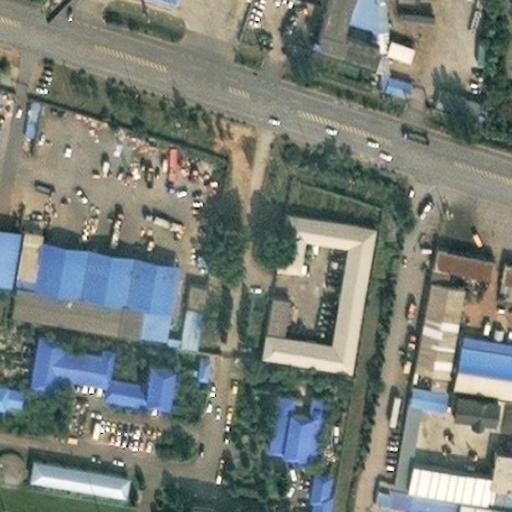building: (250, 202, 363, 361), (2, 227, 169, 329), (17, 324, 160, 395), (398, 271, 453, 397), (385, 449, 480, 494), (442, 331, 512, 391), (17, 449, 116, 487), (257, 382, 312, 449), (304, 0, 368, 56), (156, 269, 195, 334), (475, 434, 512, 500), (369, 477, 447, 506), (420, 238, 482, 274), (440, 380, 488, 414), (443, 489, 512, 512), (427, 77, 469, 107), (298, 460, 322, 512), (338, 0, 382, 23), (389, 5, 432, 27), (0, 382, 25, 414), (150, 503, 238, 512), (391, 391, 409, 432), (13, 87, 30, 128), (489, 252, 512, 276), (378, 29, 403, 51), (376, 63, 399, 83), (229, 328, 252, 347), (186, 344, 199, 368)
